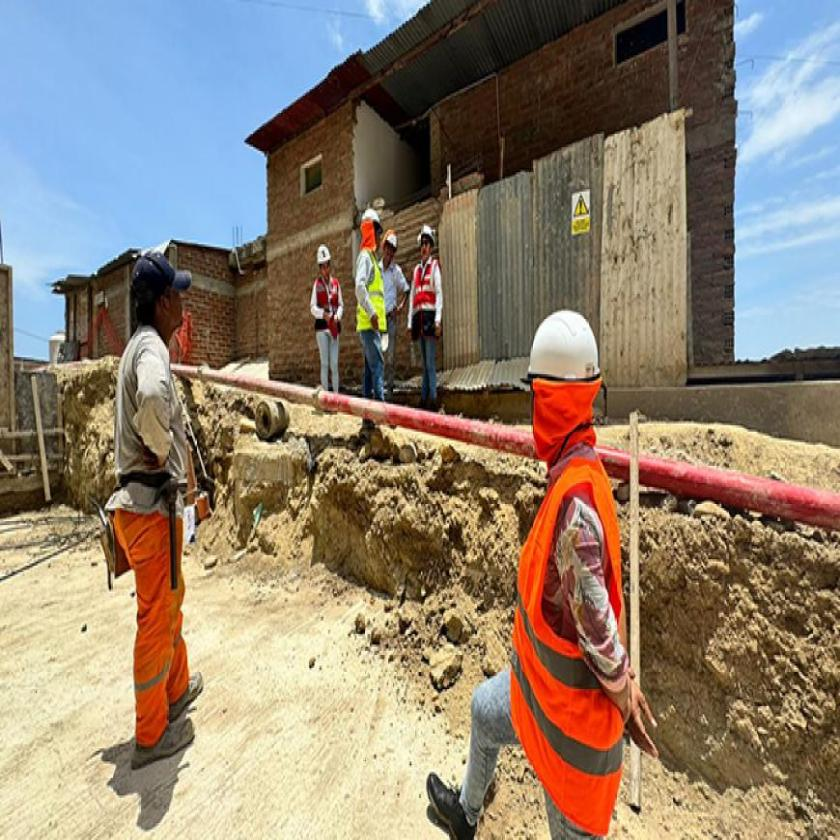Con_casco: (521, 296, 606, 465), (297, 236, 343, 288), (355, 204, 384, 264), (414, 224, 438, 264)
Sin_casco: (127, 241, 198, 351)
